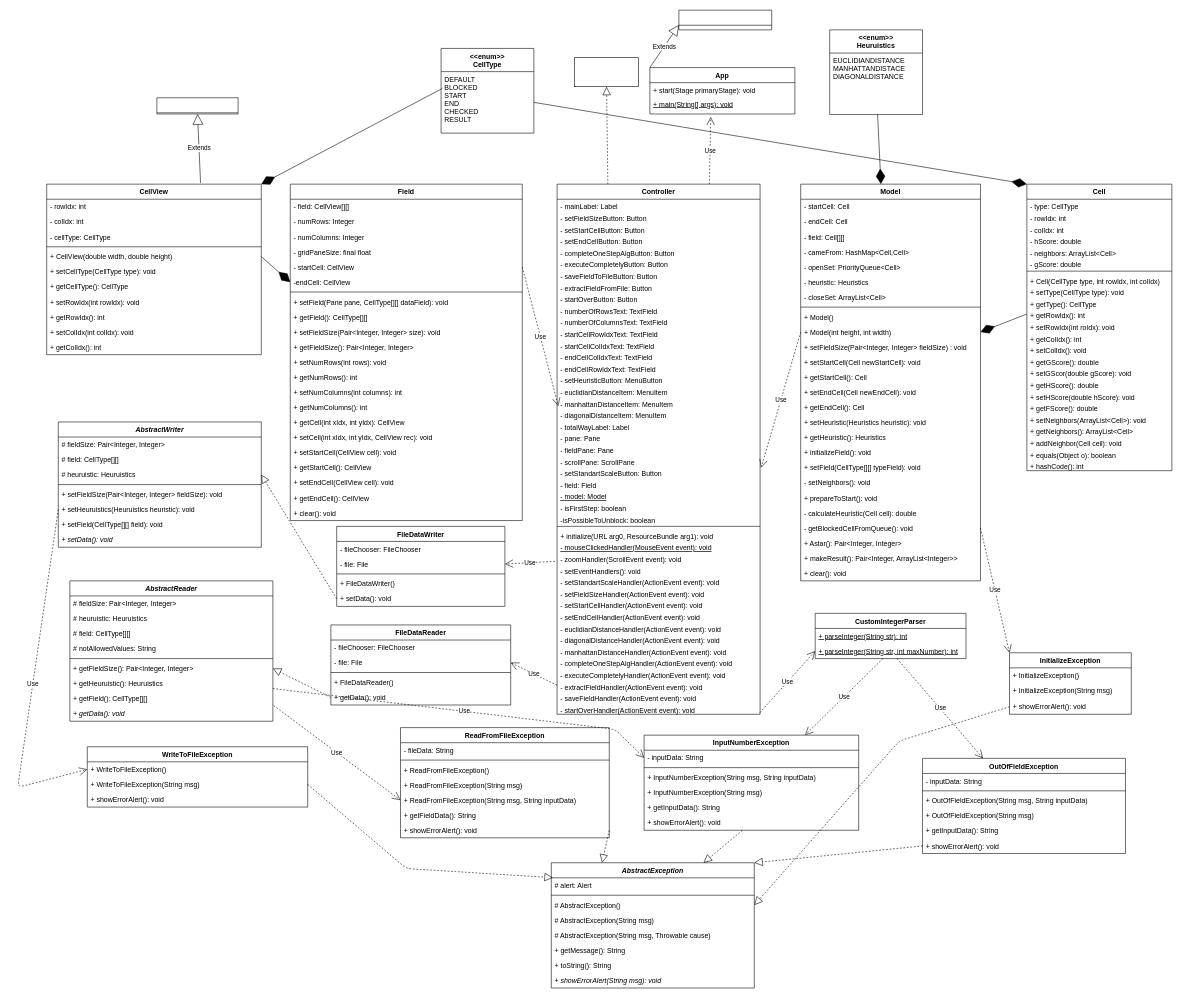
The diagram is 1182 pixels wide and 1000 high, and some of its shapes have lost their labels. The shapes that lost their labels are listed below. From the top down, each one's centre as x and y in pixels, then its label:
At (x=725, y=20): "Application".
At (x=606, y=72): "<<interface>> Initializable".
At (x=197, y=105): "Rectangle".
